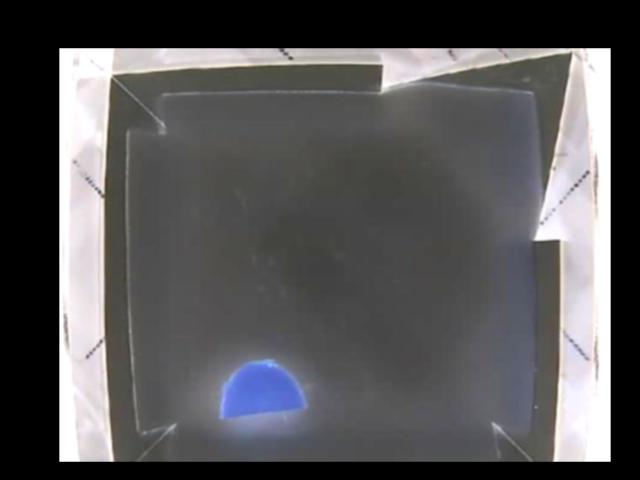Potato: (218, 358, 304, 422)
